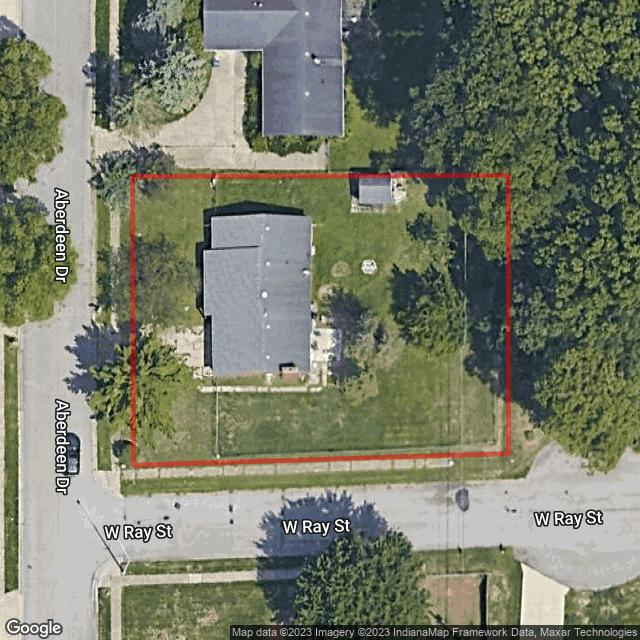Driveway: (198, 322, 340, 394), (135, 326, 213, 379)
Extra Driveway: (92, 320, 131, 371)
Extra Lawn: (135, 456, 511, 494), (96, 195, 110, 331), (119, 204, 131, 330), (96, 420, 111, 471), (120, 424, 132, 469)
Extra Sidewalk: (134, 458, 453, 479), (110, 208, 120, 330), (111, 425, 119, 470)
House: (202, 214, 311, 378)
Other: (354, 179, 408, 212), (361, 259, 378, 274)
